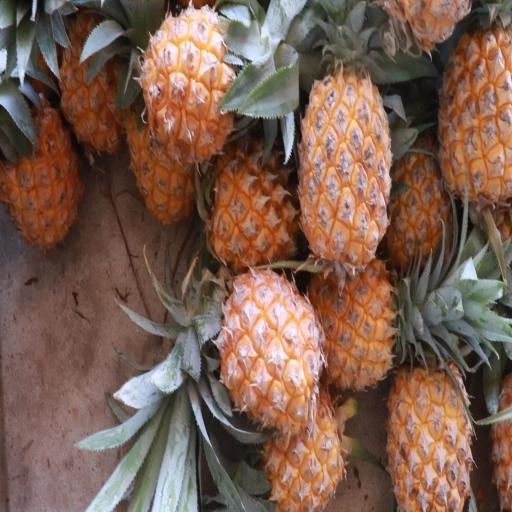Pineapple - v8 v1: (294, 37, 395, 280), (213, 257, 326, 440), (385, 302, 477, 512), (138, 0, 243, 173), (244, 339, 342, 512), (299, 243, 400, 397), (435, 5, 512, 203), (1, 76, 82, 257), (204, 130, 304, 276), (58, 11, 136, 159)
